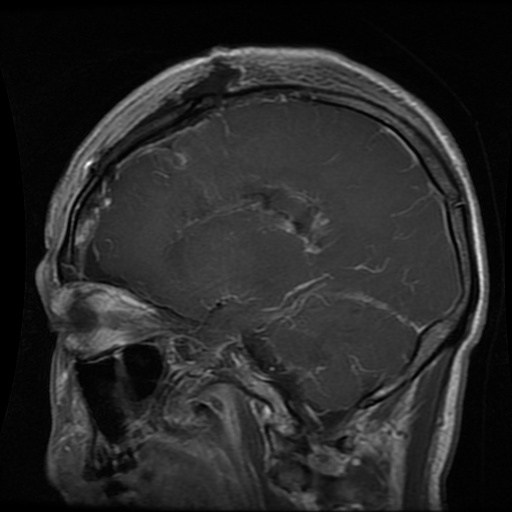glioma: (234, 191, 326, 251)
